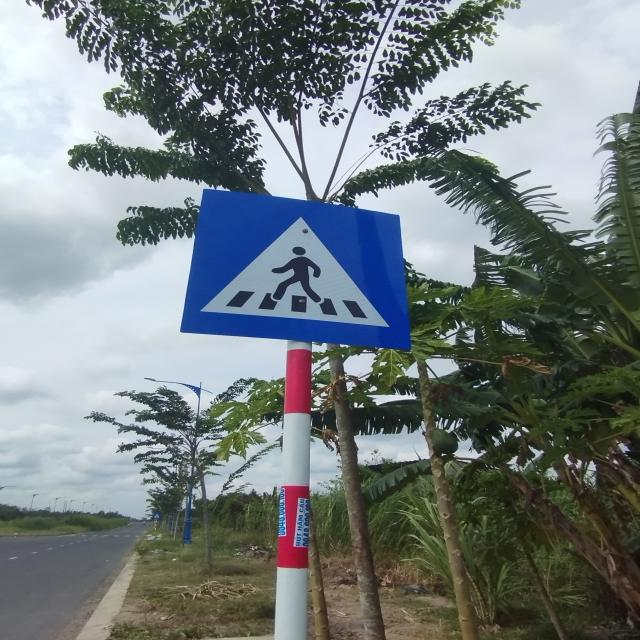Giao_Nhau_Duong_Uu_Tien: (182, 189, 412, 348)
